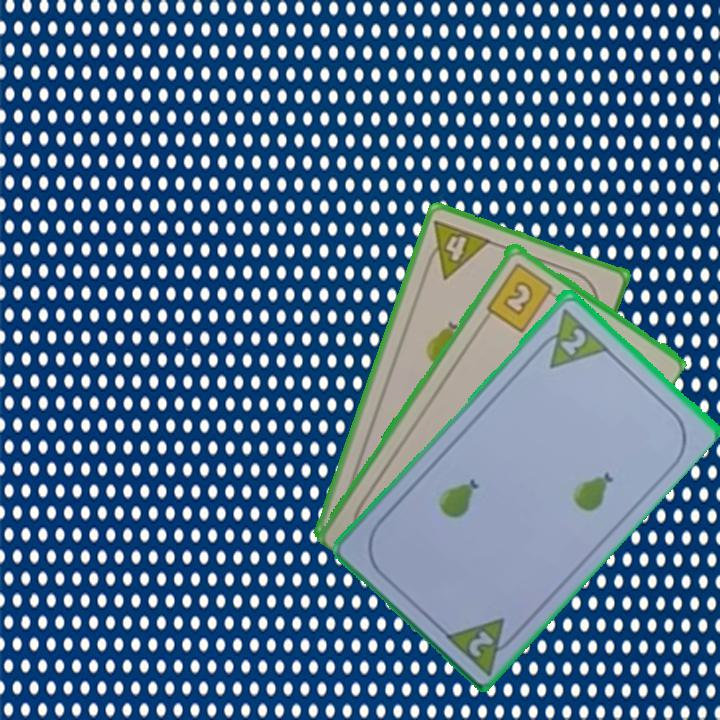2b: (483, 258, 561, 335)
2p: (440, 612, 523, 677), (531, 303, 610, 371)
4p: (420, 216, 494, 282)
